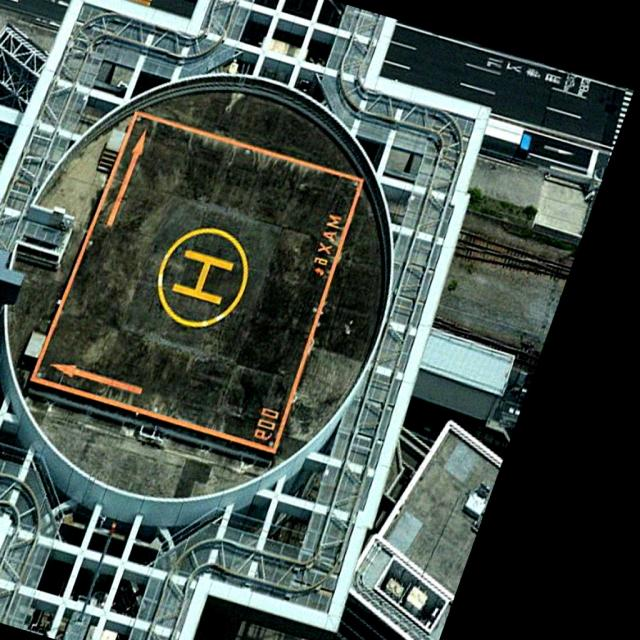helipad: (155, 225, 251, 327)
